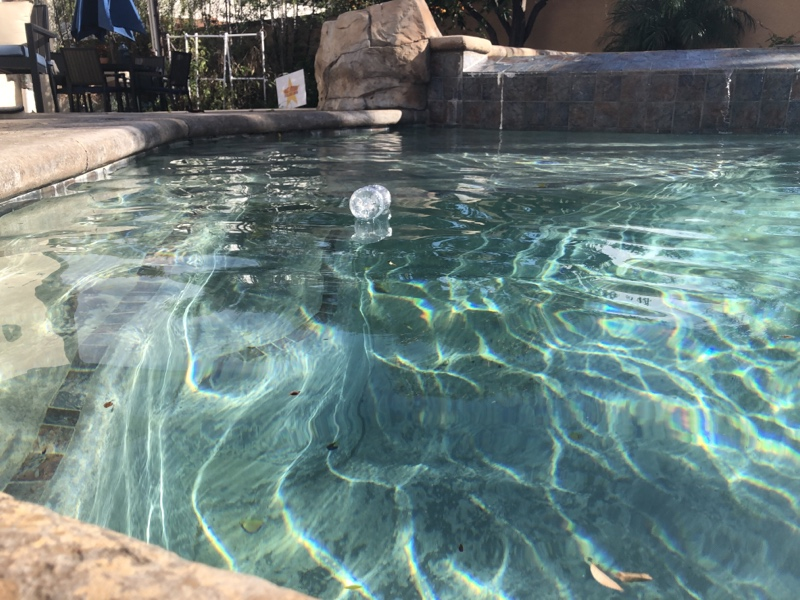Plastic Bottle: (347, 185, 393, 224)
